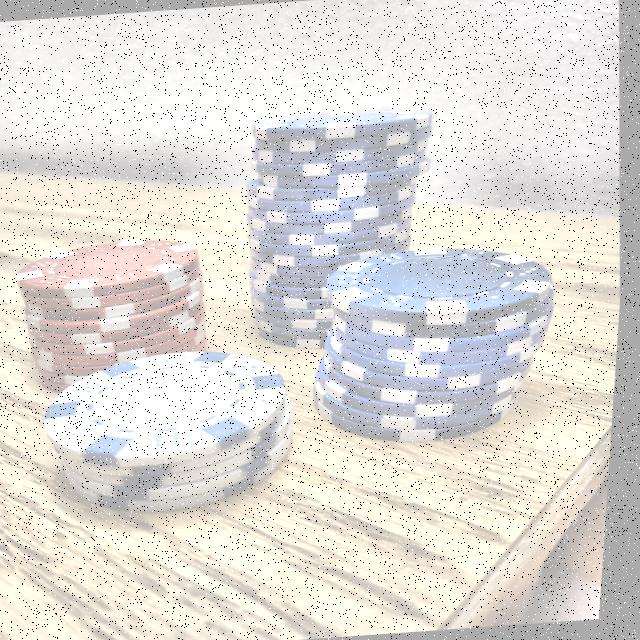Chip: (303, 210, 579, 457), (226, 91, 459, 356), (21, 332, 318, 538), (6, 217, 229, 398)
